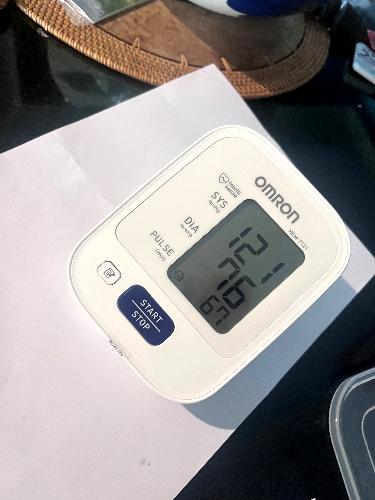bpm: (163, 193, 311, 338)
